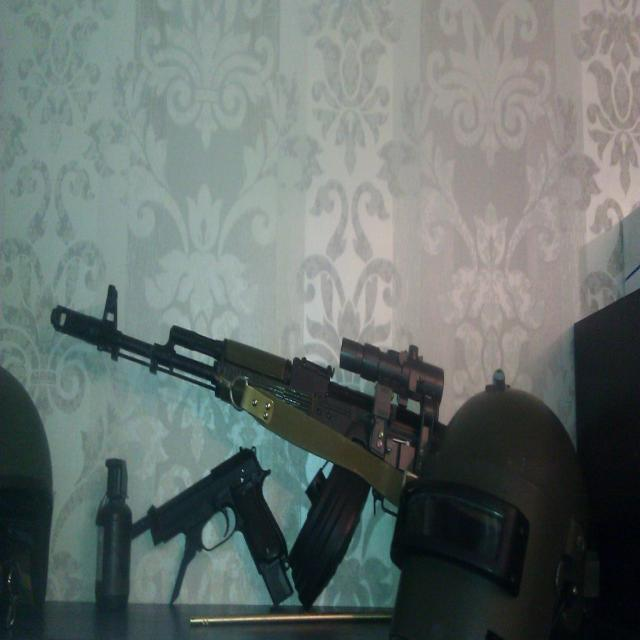firearm: (51, 285, 443, 599)
grenade: (96, 451, 134, 614)
pistol: (138, 447, 294, 610)
